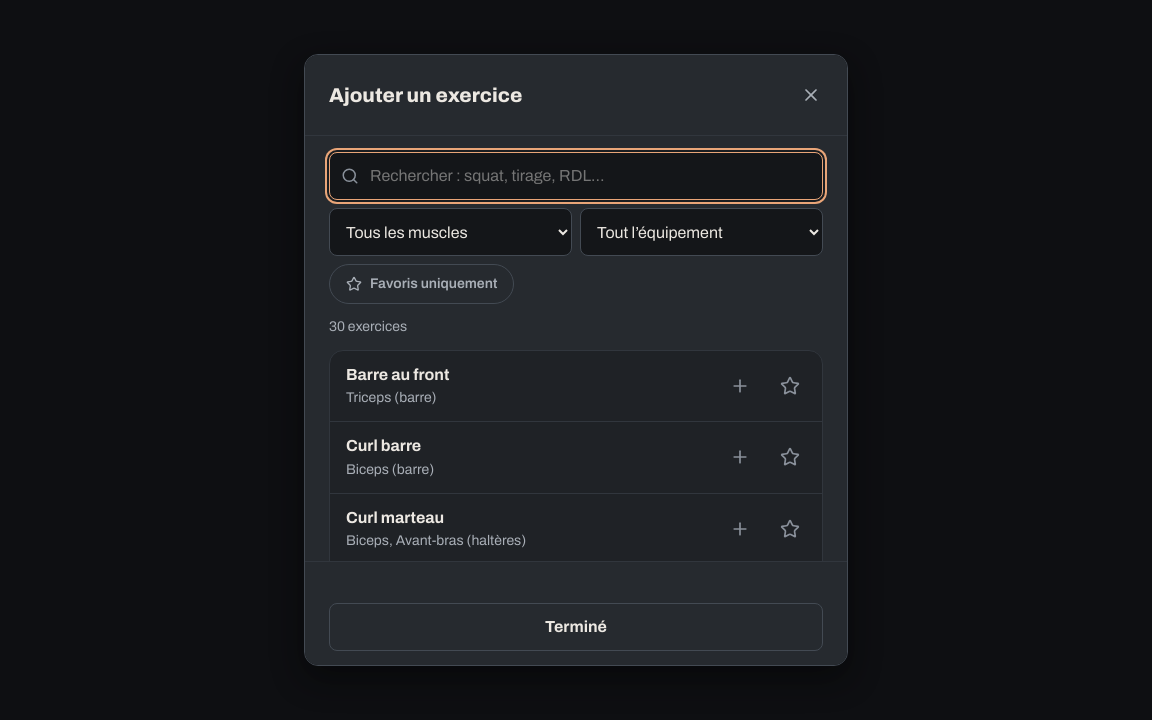
Scenario: ExercisePickerDialog › émet l’exercice choisi et reste ouvert pour en enchaîner un autre
The width and height of the screenshot is (1152, 720).
Check: the button with class "exercise-row" showing "Barre au front Triceps (barre)" is shown, box [330,351,766,421]
Type "développé couché" into the search field with placeholder "Rechercher : squat, tirage, RDL…" at (576, 176), box [329,152,823,200]
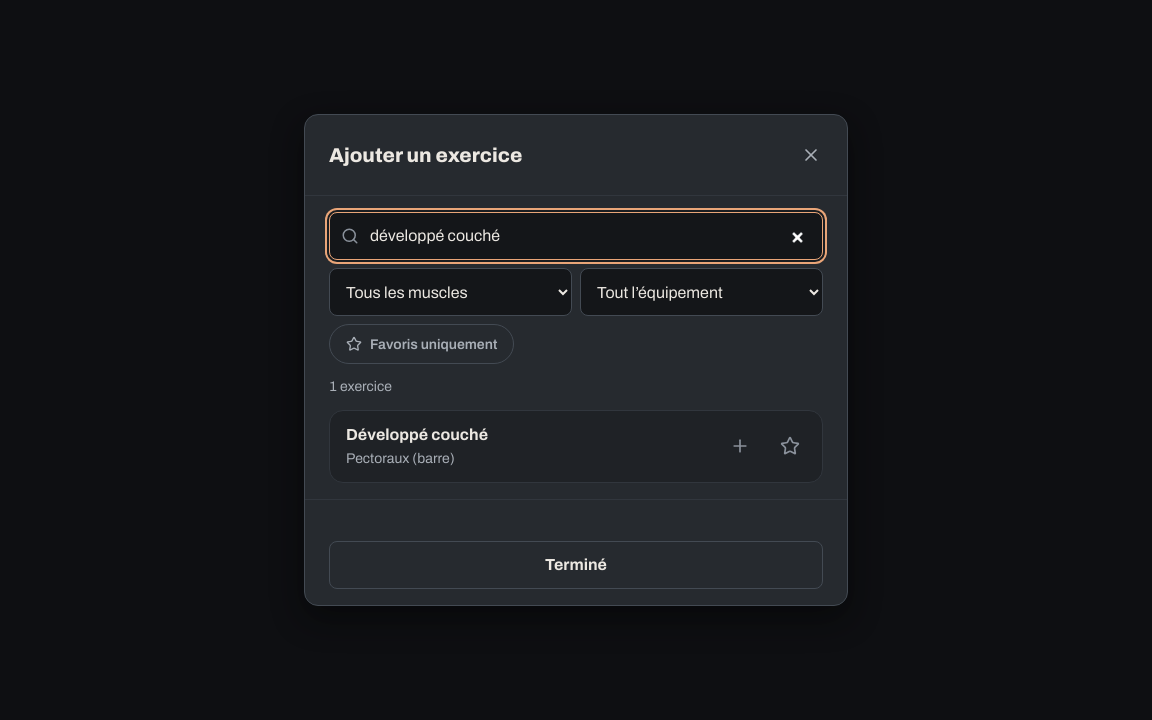
Check: the number of buttons with class "exercise-row" is 1
Click the button with class "exercise-row" at (417, 435), box [330,411,766,482]
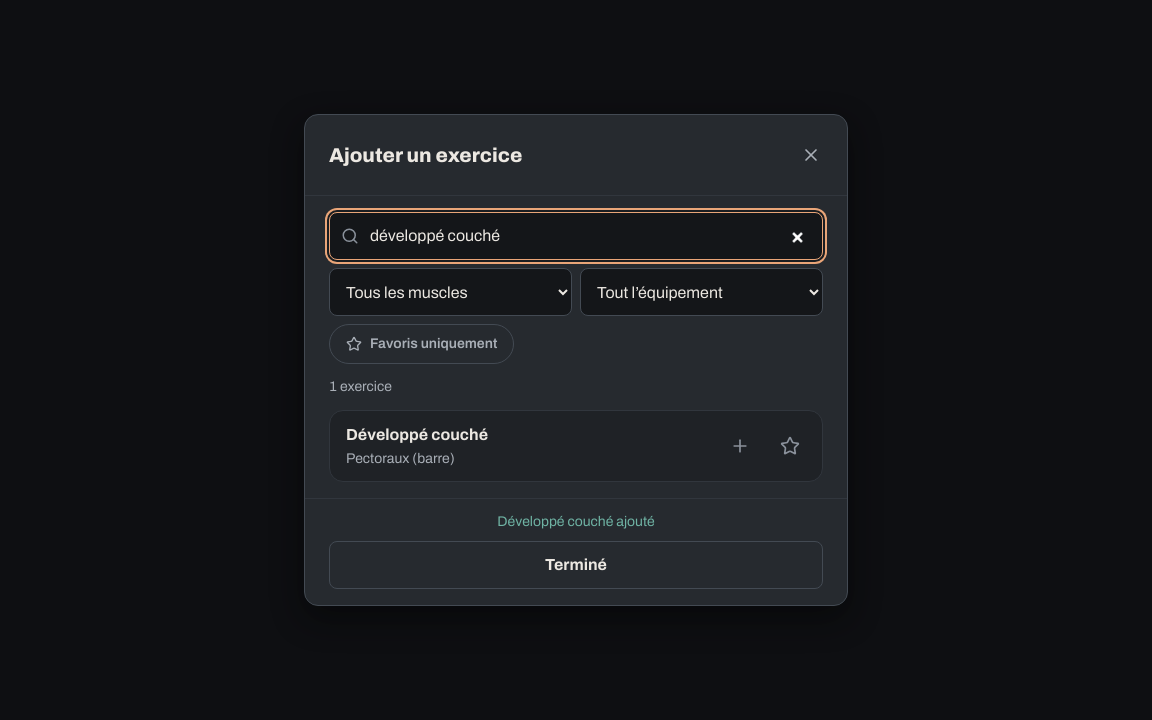
Check: the text "Développé couché ajouté" is shown, box [497,514,655,529]
